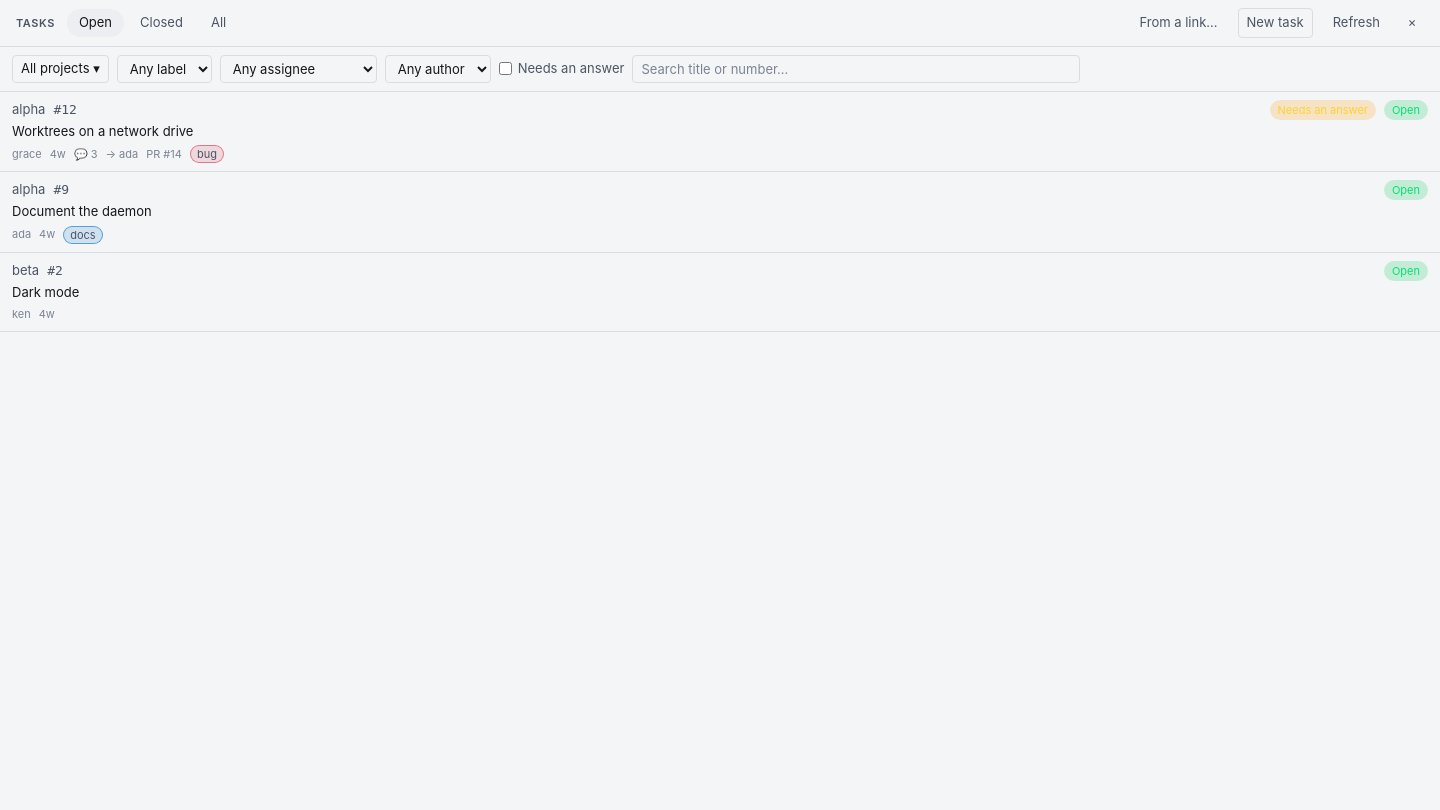
Test: one task in full › opens beside the list with its description and conversation
Click the button "Worktrees on a network drive" at point(29, 109), box [0,92,1439,171]
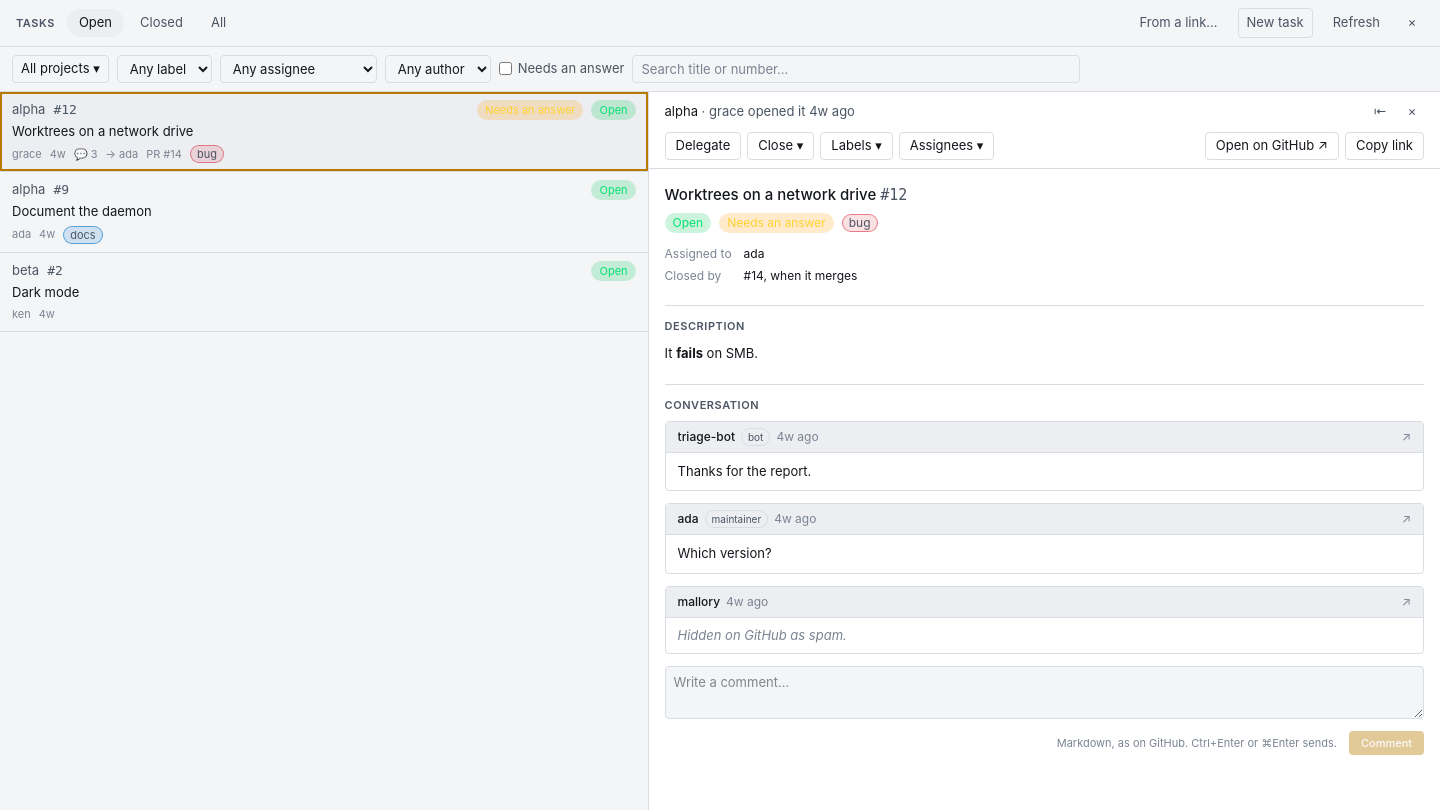
Expected: the element named "Task #12" shows "alpha · grace opened it", [648,92,1439,809]
Expected: the heading "Worktrees on a network drive #12" is shown, [664,184,907,204]
Expected: the element named "Task #12" shows "Needs an answer", [727,215,826,230]
